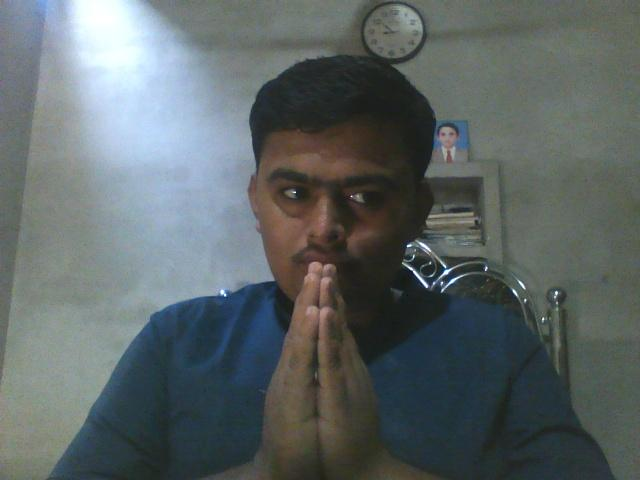Please: (249, 255, 401, 480)
